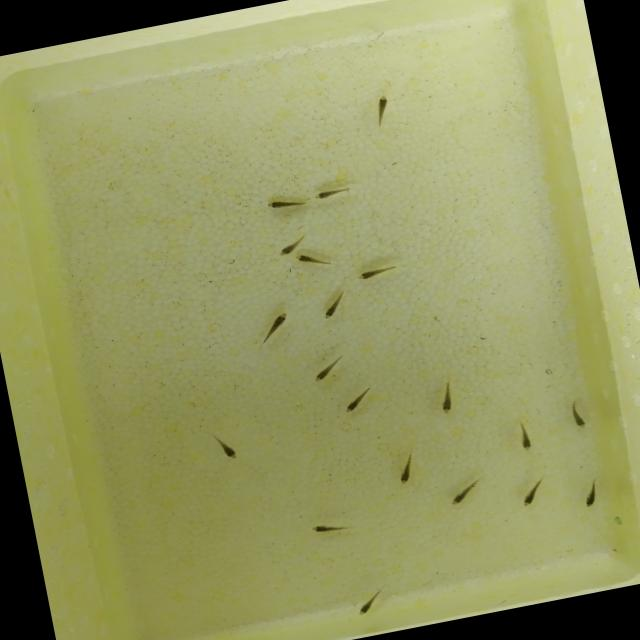fingerling: (302, 348, 356, 386), (348, 580, 396, 620), (252, 308, 298, 348), (304, 512, 358, 544), (338, 380, 384, 416), (288, 248, 344, 276), (314, 288, 354, 326), (391, 446, 424, 489), (208, 426, 245, 464), (351, 260, 402, 286), (444, 477, 484, 510), (431, 379, 464, 418), (514, 477, 550, 511), (308, 182, 357, 206), (578, 472, 608, 511), (368, 92, 396, 132), (271, 232, 310, 260), (260, 193, 306, 216), (566, 400, 592, 436), (514, 417, 538, 455)
